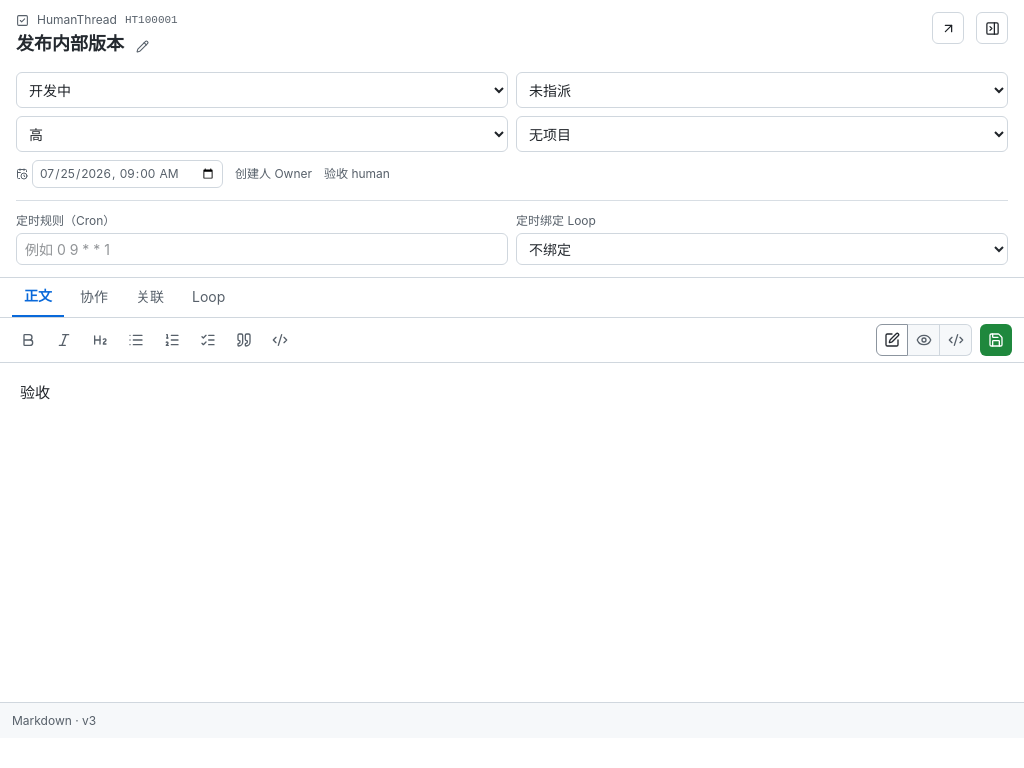
it: TaskDetail › shows an explicit document association action in the task relations tab
Click the tab "关联" at (150, 297), box [124, 277, 176, 317]
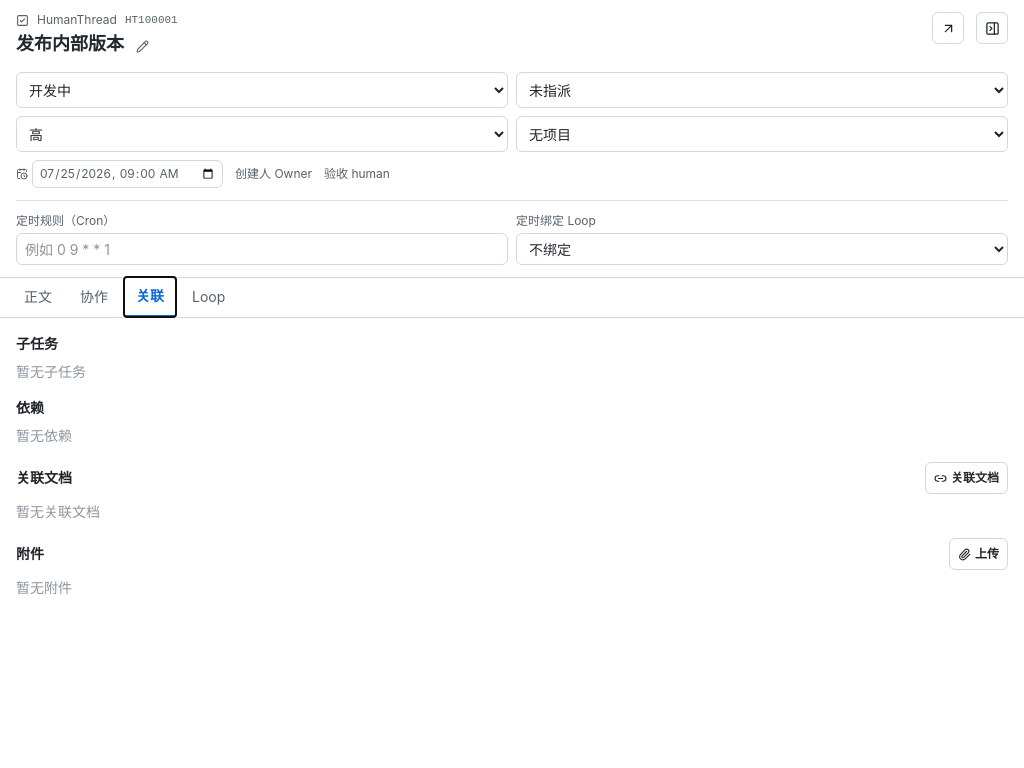
expect the button "关联文档" is shown: met, box [925, 462, 1008, 494]
